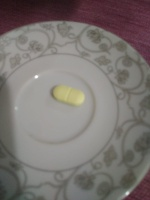Aferin: (51, 84, 87, 107)
